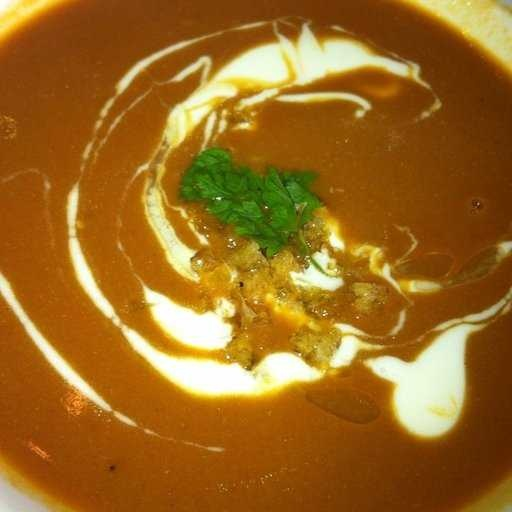soup: (8, 13, 495, 506)
